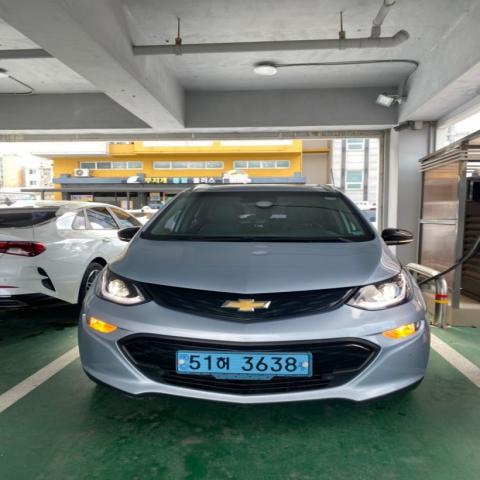LP: (168, 343, 315, 380)
